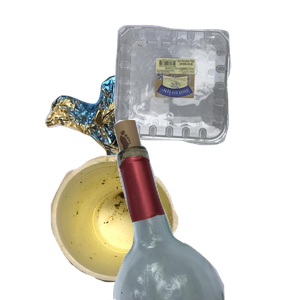glass: (89, 120, 300, 300)
metal: (42, 72, 239, 229)
plastic: (112, 22, 300, 160)
trash: (48, 152, 219, 300)
